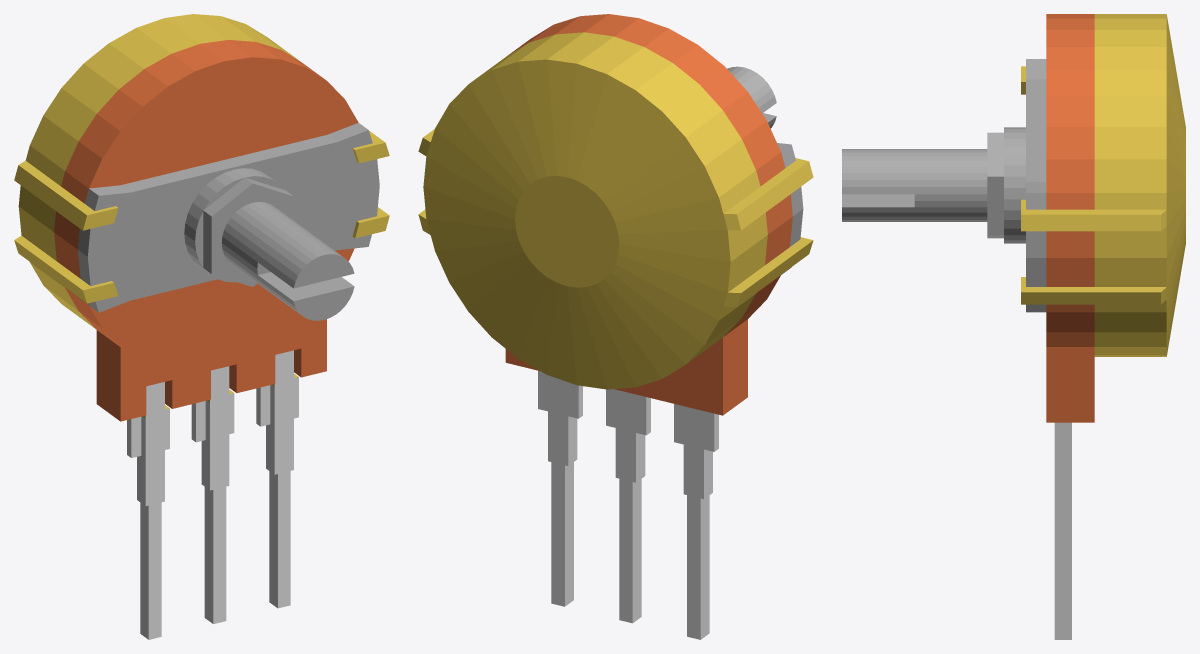
File: Potentiometer.glb
The picture shows the model from 3 angles, left to right: view 1: azimuth 30°, elevation 25°; view 2: azimuth 150°, elevation 25°; view 3: azimuth 270°, elevation 25°; orthographic projection. The views are drawn at different scales.
Parts seen in each view (by area): view 1: Potentiometer, Potentiometer.004, Potentiometer.002, Potentiometer.003, Potentiometer.001, Potentiometer.005; view 2: Potentiometer, Potentiometer.002, Potentiometer.001, Potentiometer.003, Potentiometer.004; view 3: Potentiometer, Potentiometer.004, Potentiometer.003, Potentiometer.005.
Boxes of the visible parts, x1,y1,x2,y2 form: Potentiometer: [14, 14, 389, 421]; Potentiometer.004: [221, 202, 354, 320]; Potentiometer.002: [191, 393, 234, 623]; Potentiometer.003: [256, 377, 298, 608]; Potentiometer.001: [127, 408, 169, 639]; Potentiometer.005: [203, 177, 293, 286]; Potentiometer: [418, 14, 813, 415]; Potentiometer.002: [606, 389, 650, 623]; Potentiometer.001: [674, 404, 718, 639]; Potentiometer.003: [538, 370, 582, 606]; Potentiometer.004: [727, 66, 776, 128]; Potentiometer: [1004, 14, 1185, 422]; Potentiometer.004: [842, 149, 987, 221]; Potentiometer.003: [1054, 422, 1071, 639]; Potentiometer.005: [987, 132, 1003, 238].
Bounding box in the file's own units: 0.3336 × 0.5864 × 0.318.
